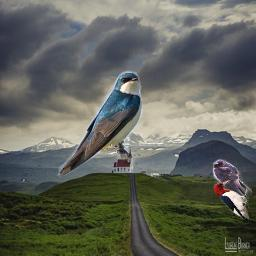Swallow: (55, 68, 146, 178), (212, 159, 252, 201)
Woodpecker: (213, 180, 249, 222)
